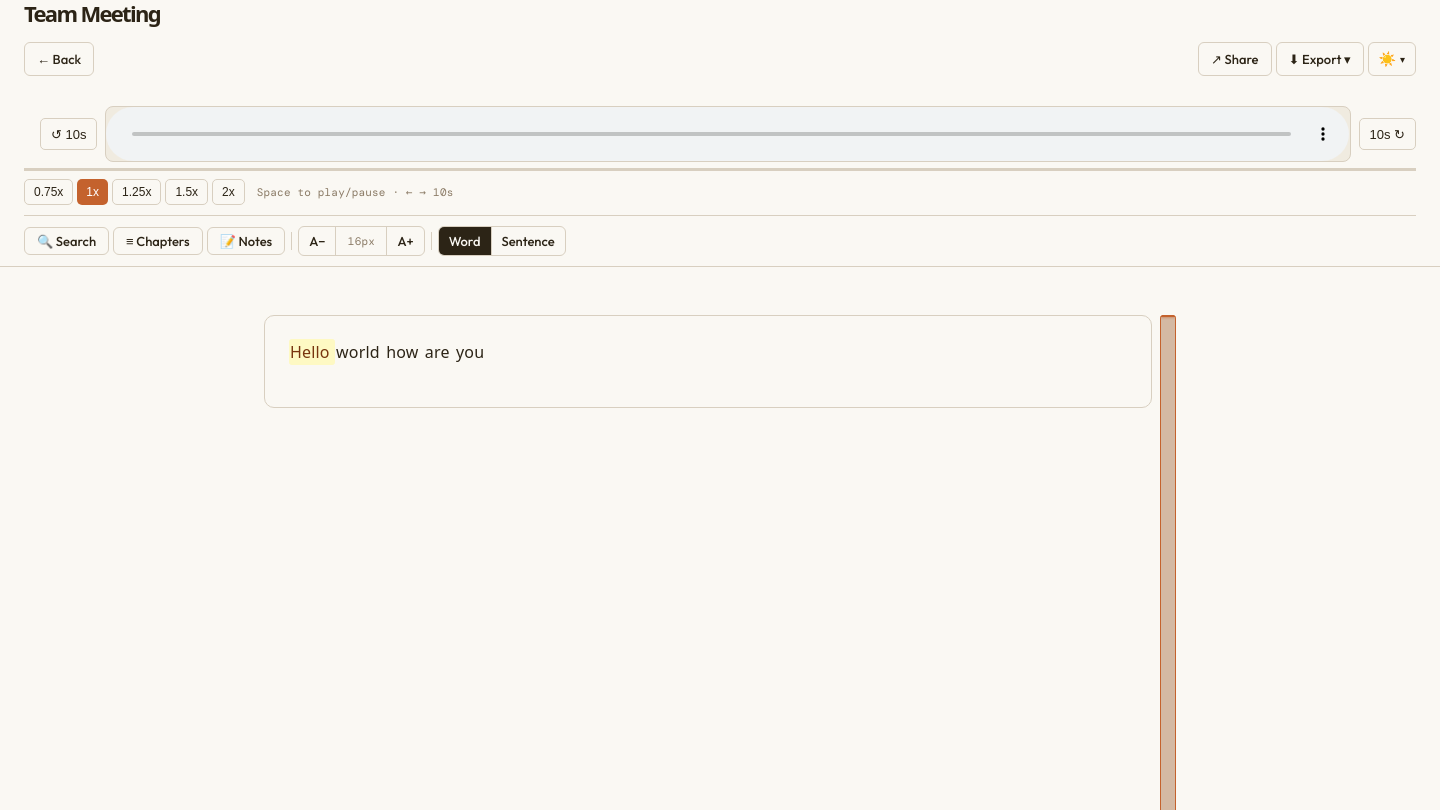
it: Share button shows share popup
This screenshot has width=1440, height=810.
Expected: the text "Hello" is shown, [289,339,335,365]
Click the button "↗ Share": click(1235, 59) [1198,42,1272,76]
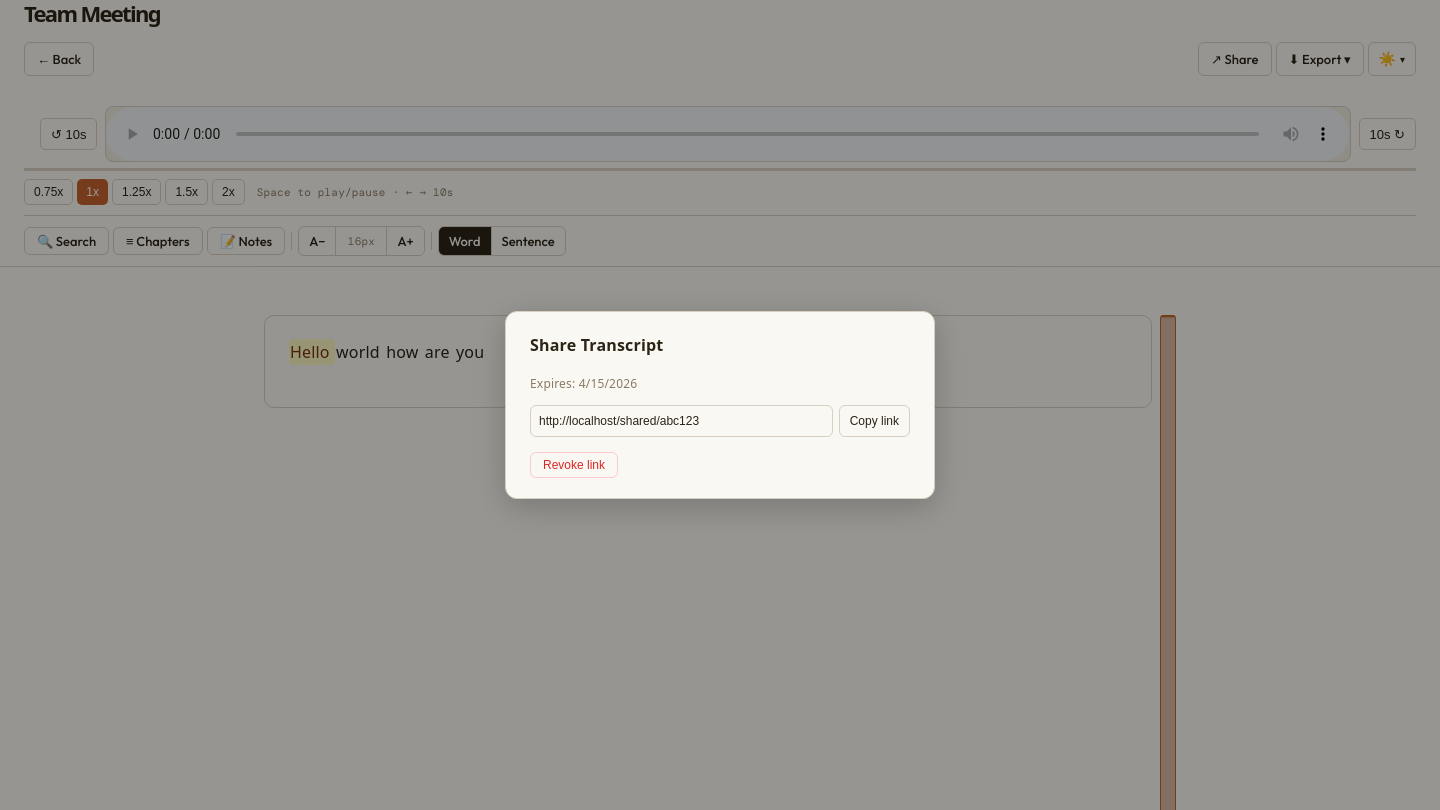
Now the button "Copy link" is shown, box [839,405,910,437]
